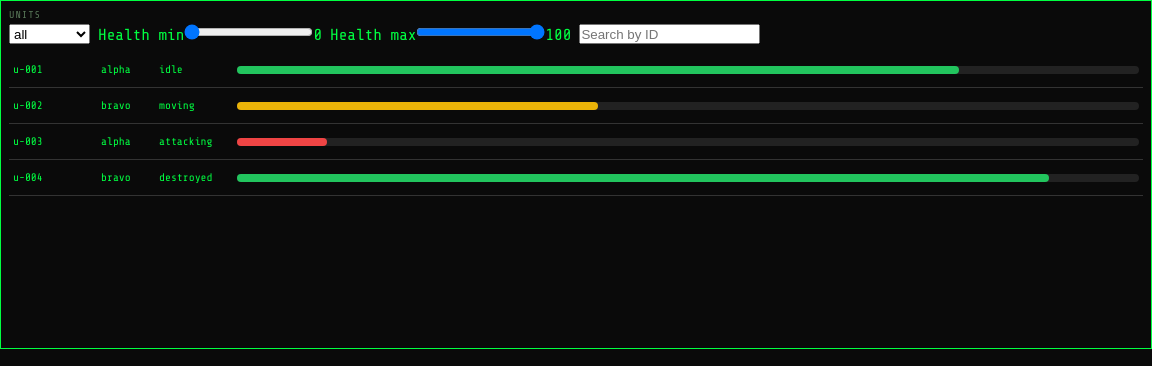
Test case: UNITS-01: Filter bar › UNITS-01-d: selecting a status option removes units with other statuses from rendered rows
# Filter to 'idle' only — u-001 is the only idle unit
Select "idle" in the dropdown at (50, 34), box [9,24,90,44]
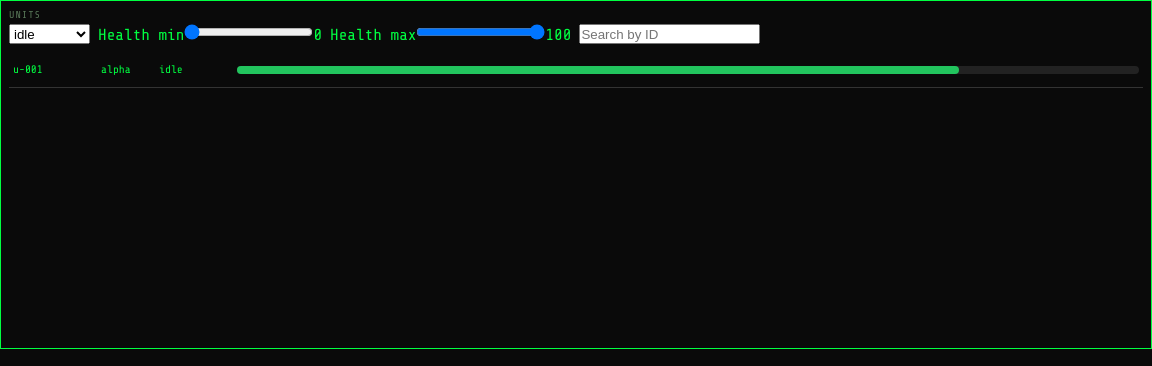
expect the text "u-002" is gone: met
expect the text "u-003" is gone: met
expect the text "u-004" is gone: met
